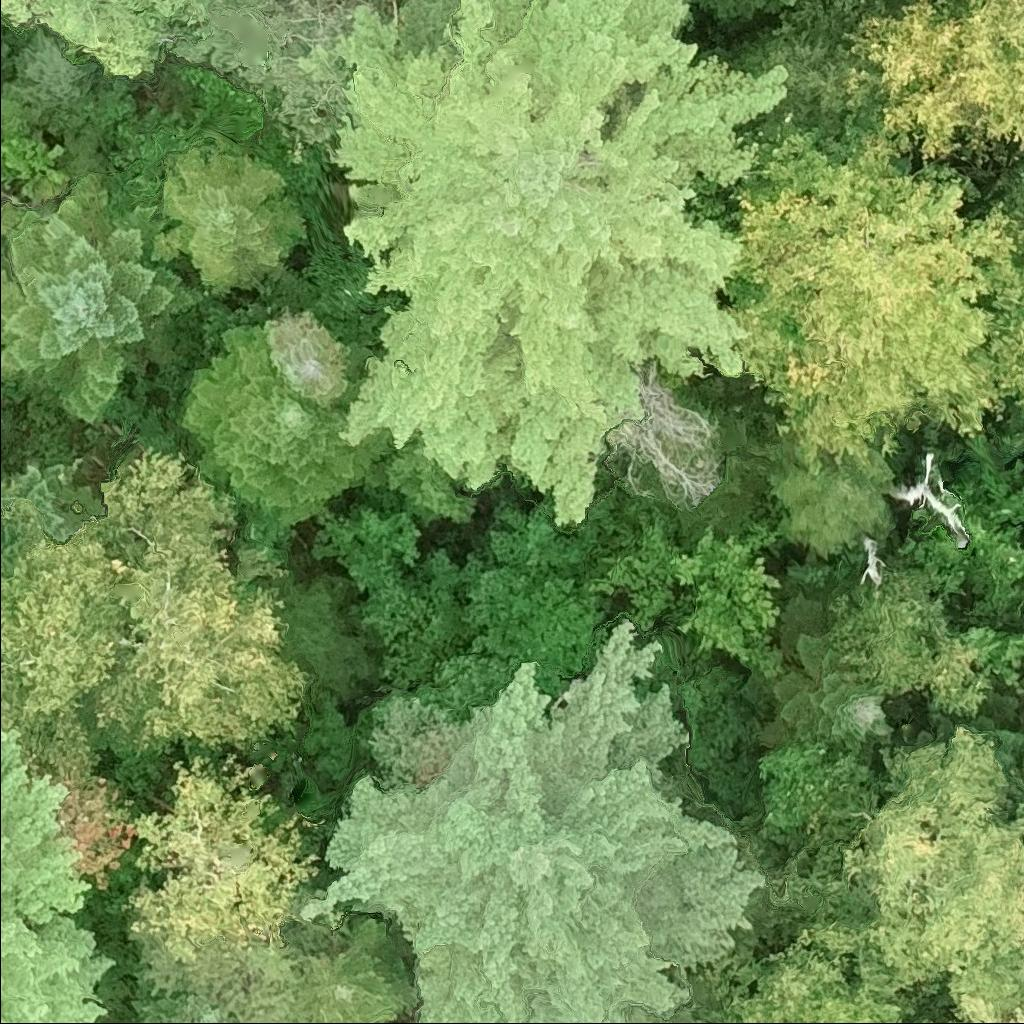crown: (298, 0, 793, 530), (298, 617, 772, 1023), (728, 126, 1015, 466), (87, 443, 310, 758), (810, 719, 1023, 1016), (0, 170, 206, 433), (112, 750, 342, 969), (730, 0, 1023, 163), (177, 317, 389, 537), (0, 723, 118, 1023), (0, 502, 128, 764), (735, 596, 902, 772), (698, 932, 967, 1023), (833, 571, 989, 714), (162, 144, 309, 295), (25, 0, 261, 81), (668, 522, 785, 681), (283, 907, 415, 1023), (984, 153, 1023, 411), (263, 307, 354, 408), (0, 458, 100, 547), (897, 448, 972, 552), (125, 983, 229, 1023), (957, 989, 1023, 1023), (0, 0, 36, 29), (771, 0, 810, 11), (851, 0, 868, 5)
